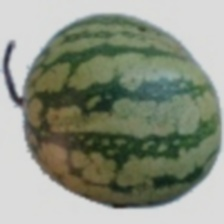watermelon: (28, 10, 214, 172)
